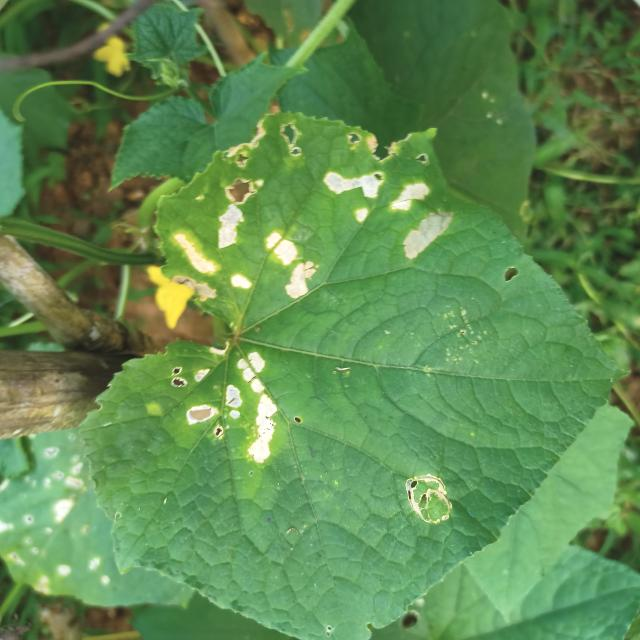disease_cucumber: (166, 332, 292, 468), (168, 161, 258, 310), (387, 162, 457, 262), (260, 226, 319, 304), (317, 161, 383, 227)
